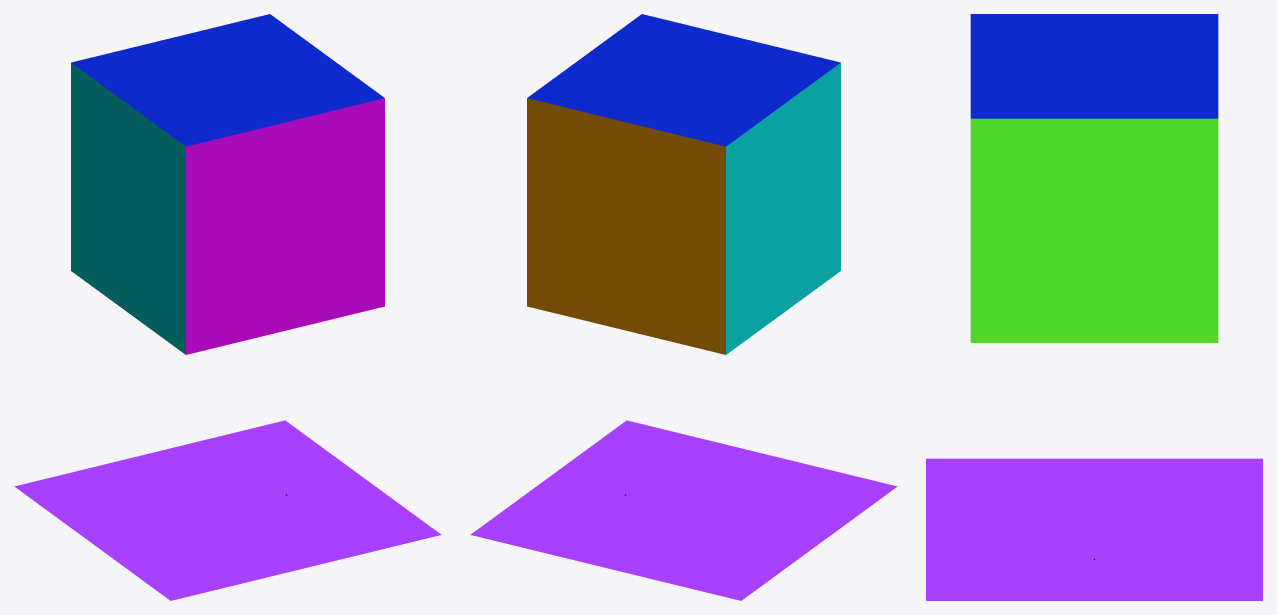
3 views of the same model, side by side, from view 1: azimuth 30°, elevation 25°; view 2: azimuth 150°, elevation 25°; view 3: azimuth 270°, elevation 25° (orthographic). The views are drawn at different scales.
Visible parts, largest first — view 1: Plane, Cube001_2, Cube001_3, Cube001; view 2: Plane, Cube001_4, Cube001_3, Cube001; view 3: Cube001_1, Plane, Cube001.
Boxes of the visible parts, bbox=[...] form: Plane: bbox=[14, 420, 441, 600]; Cube001_2: bbox=[186, 98, 384, 354]; Cube001_3: bbox=[71, 63, 185, 354]; Cube001: bbox=[71, 14, 384, 146]; Plane: bbox=[470, 420, 897, 600]; Cube001_4: bbox=[527, 98, 725, 354]; Cube001_3: bbox=[726, 63, 840, 354]; Cube001: bbox=[527, 14, 840, 146]; Cube001_1: bbox=[970, 118, 1218, 342]; Plane: bbox=[926, 458, 1262, 600]; Cube001: bbox=[970, 14, 1218, 118].
Bounding box in the file's own units: 2 × 3.04 × 2.
